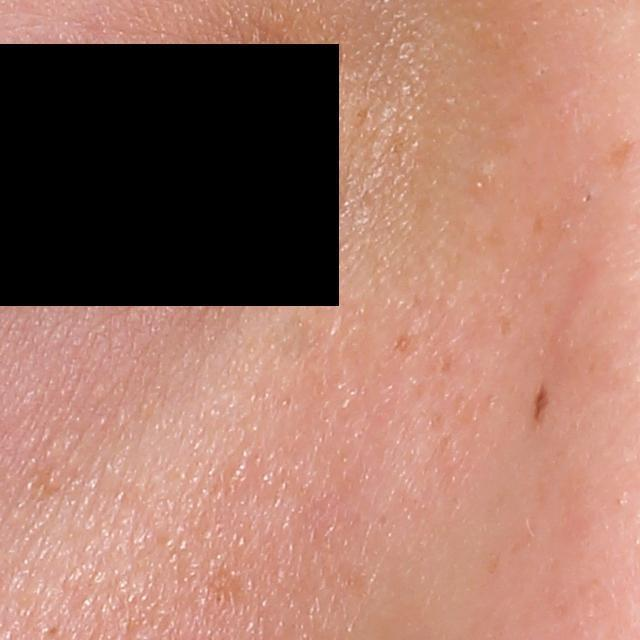melasma: (199, 560, 255, 614), (389, 326, 427, 361)
nevus: (530, 382, 553, 424)
